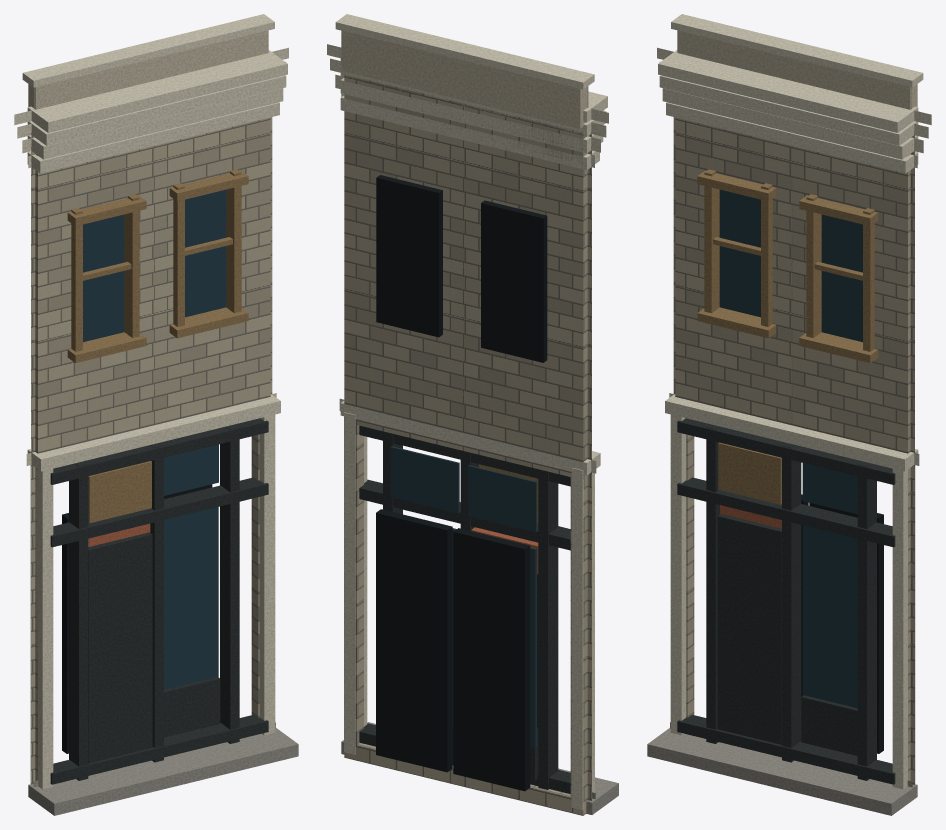
File: BUSS10_lod2.glb
The picture shows the model from 3 angles, left to right: view 1: azimuth 30°, elevation 25°; view 2: azimuth 150°, elevation 25°; view 3: azimuth 330°, elevation 25°; orthographic projection. The views are drawn at different scales.
Parts seen in each view (by area): view 1: BUSS10_FRONT_LOD2; view 2: BUSS10_FRONT_LOD2; view 3: BUSS10_FRONT_LOD2.
Part boxes in pixels (x1,y1,x2,y2): BUSS10_FRONT_LOD2: (14,14,298,815); BUSS10_FRONT_LOD2: (327,14,618,815); BUSS10_FRONT_LOD2: (647,14,931,815).
Bounding box in the file's own units: 3.78 × 9.44 × 1.
10 materials, 8 textured.
